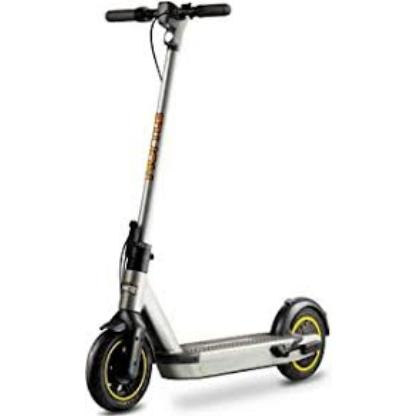bike: (84, 2, 332, 414)
car: (84, 3, 333, 414)
